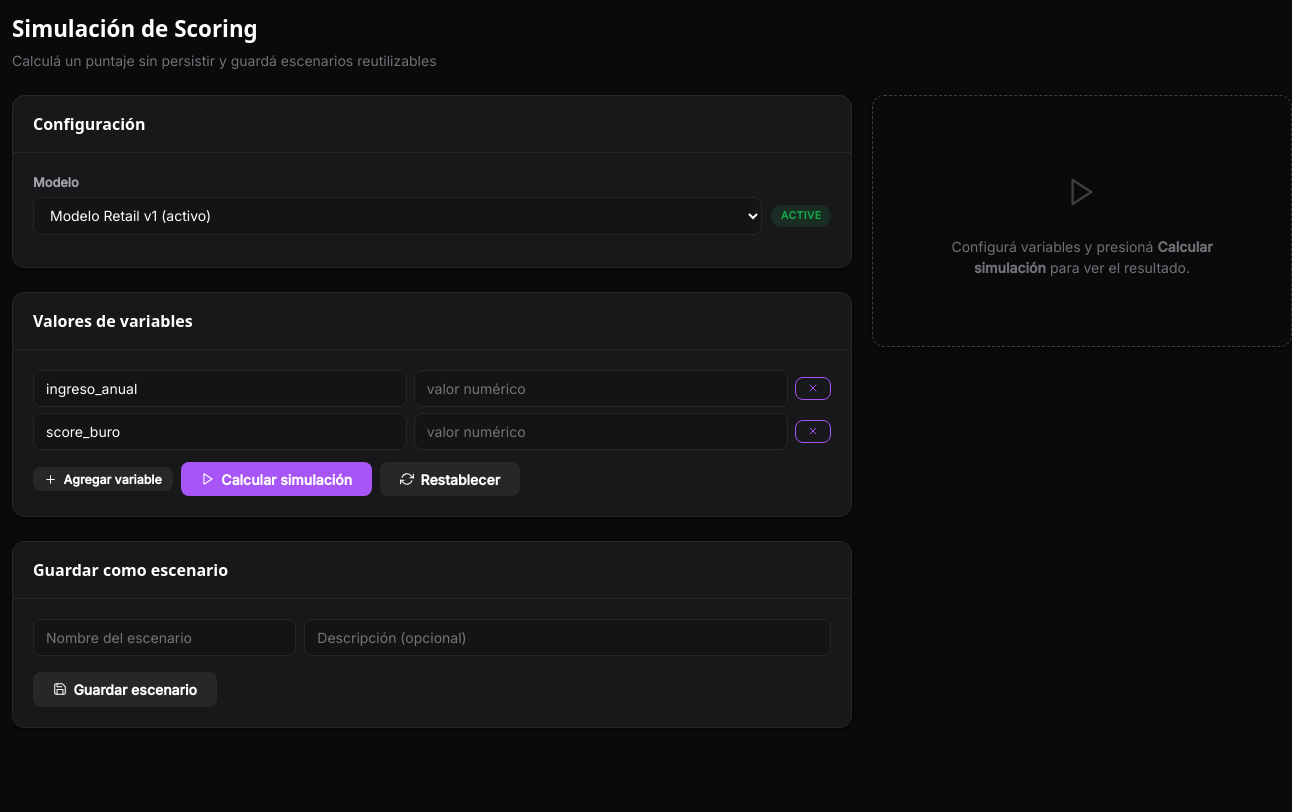
Test: Simulation — Calcular simulación › renders Rechazado status for KO result
The width and height of the screenshot is (1292, 812).
Check: the dropdown shows "Modelo Retail v1 (activo)", box left=33, top=197, right=762, bottom=235
Replace the text in the field with placeholder "nombre_variable" with "score_buro" at (220, 388), box left=33, top=370, right=407, bottom=407
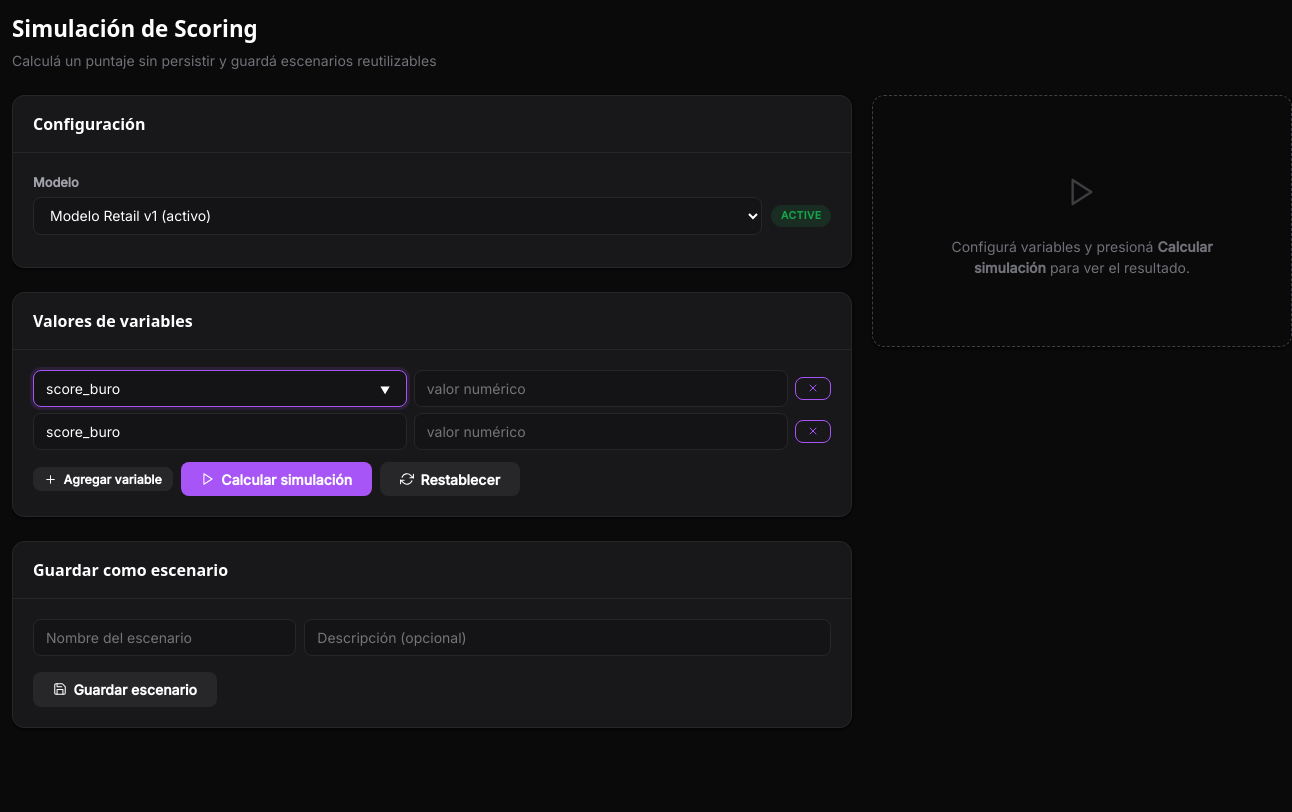
Type "100" into the 1st number field with placeholder "valor numérico".
click(601, 388); type("100")  # box left=414, top=370, right=788, bottom=407
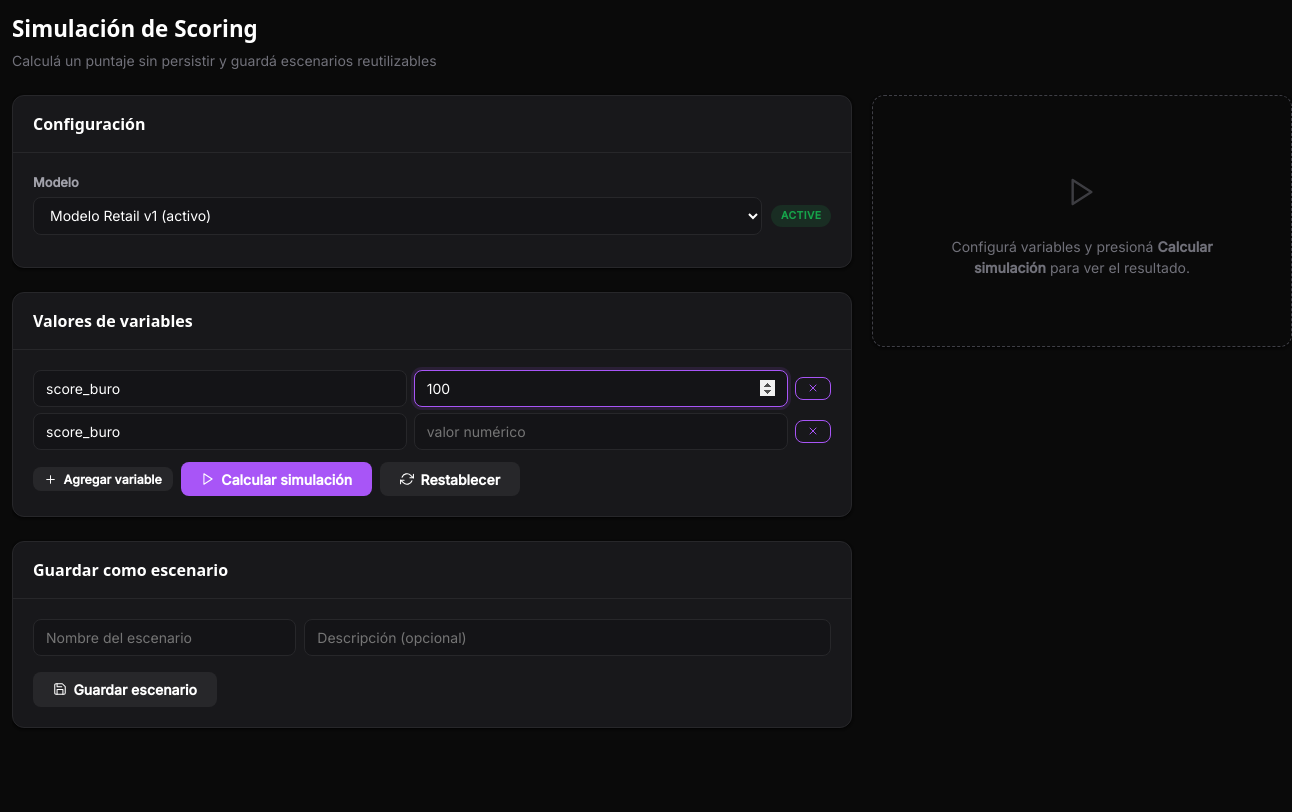
Click the button "Calcular simulación".
click(277, 479)  # box left=181, top=462, right=372, bottom=496
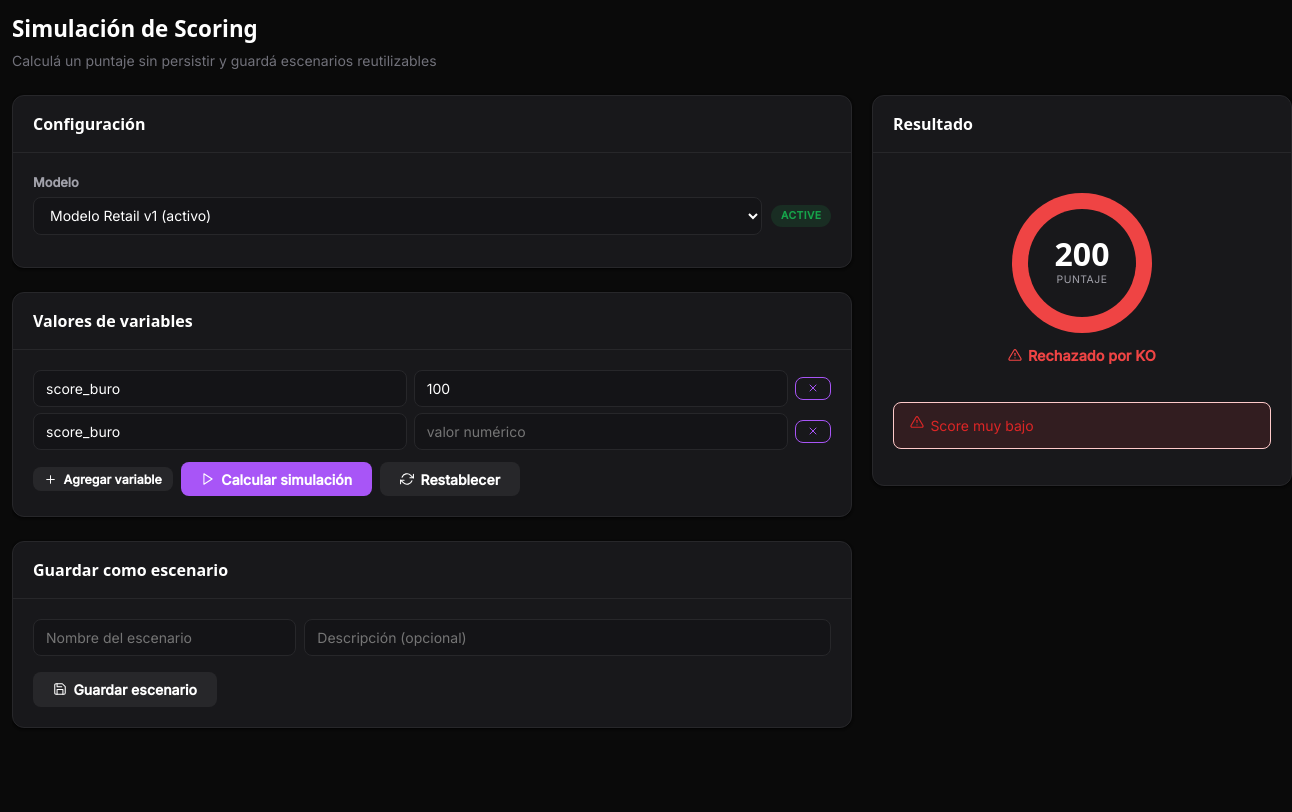
Check: the text "Rechazado por KO" is shown, box left=1008, top=345, right=1156, bottom=366
